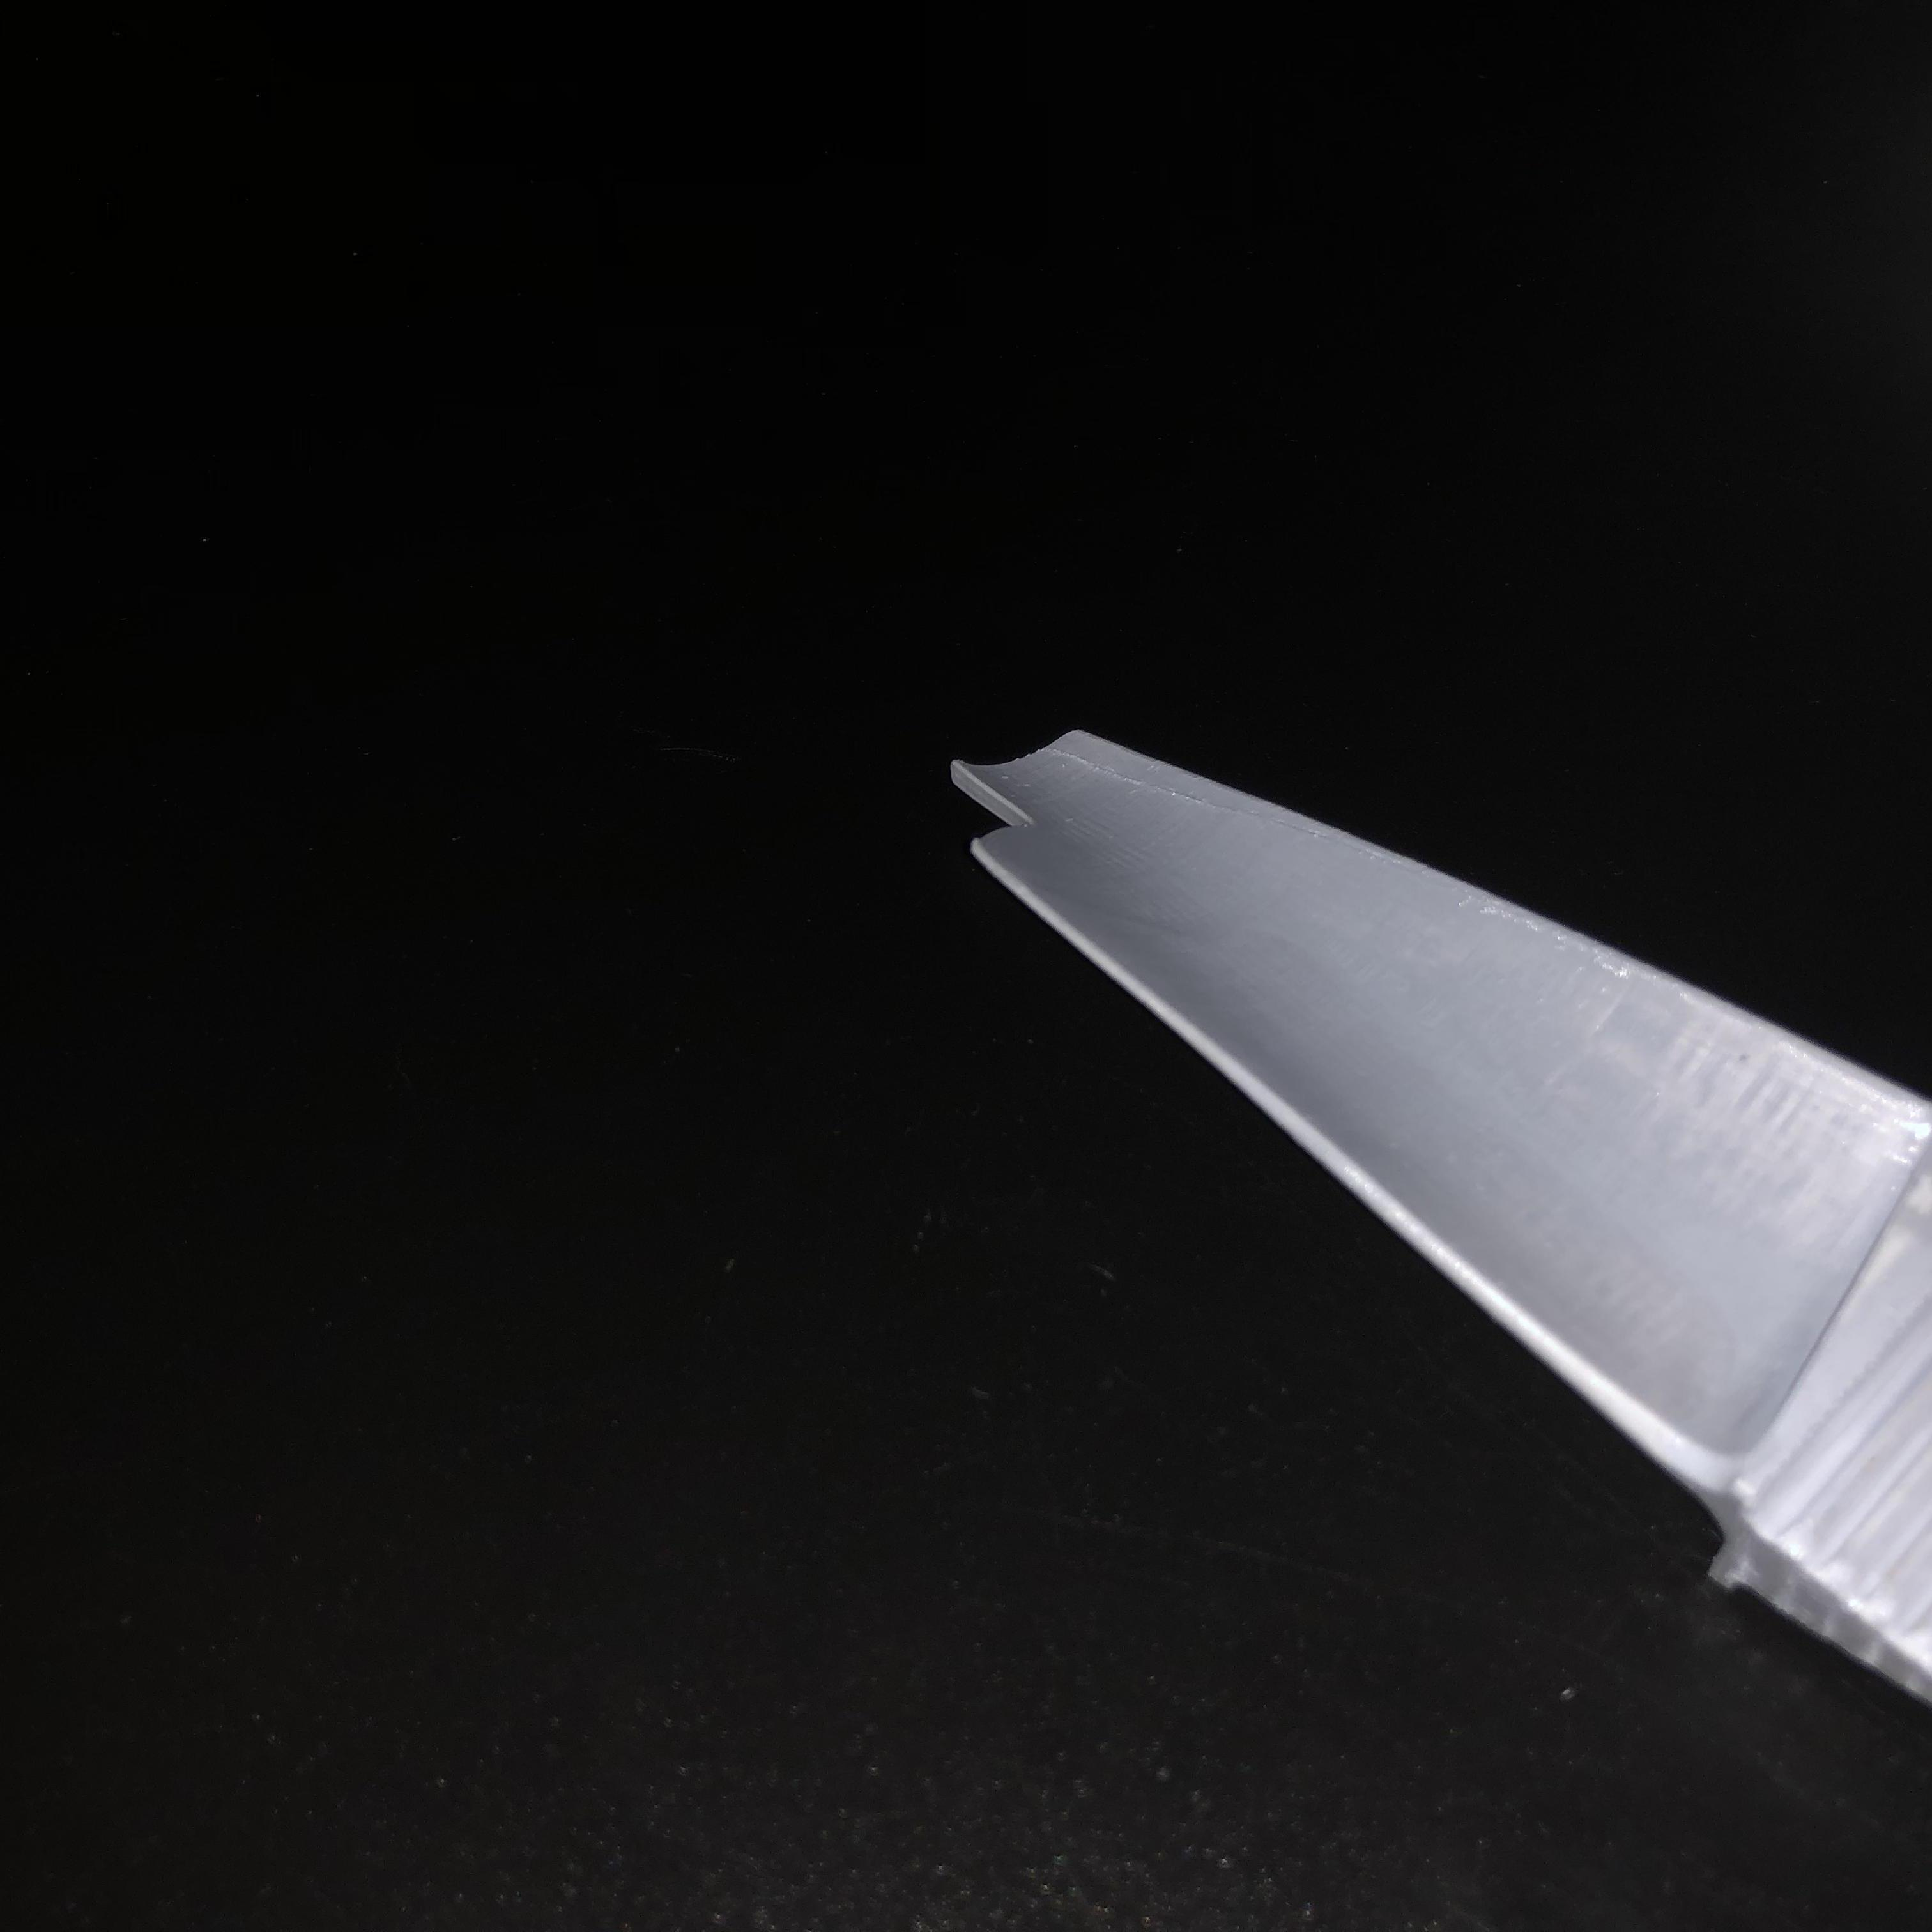fracture: (918, 757, 1044, 863)
